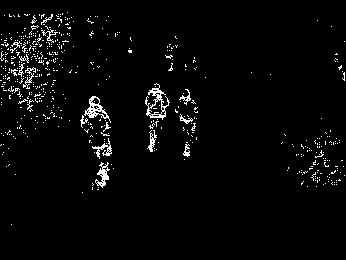person: (80, 92, 113, 192), (143, 81, 170, 153), (174, 87, 198, 159)
